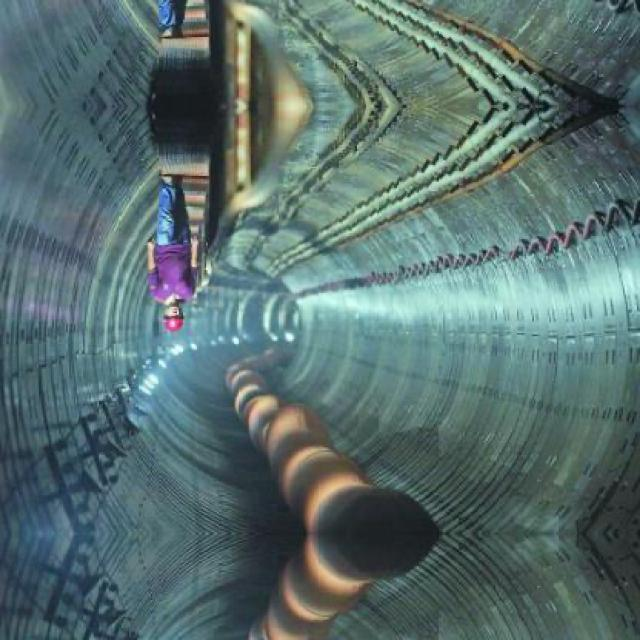con casco: (136, 278, 197, 348)
